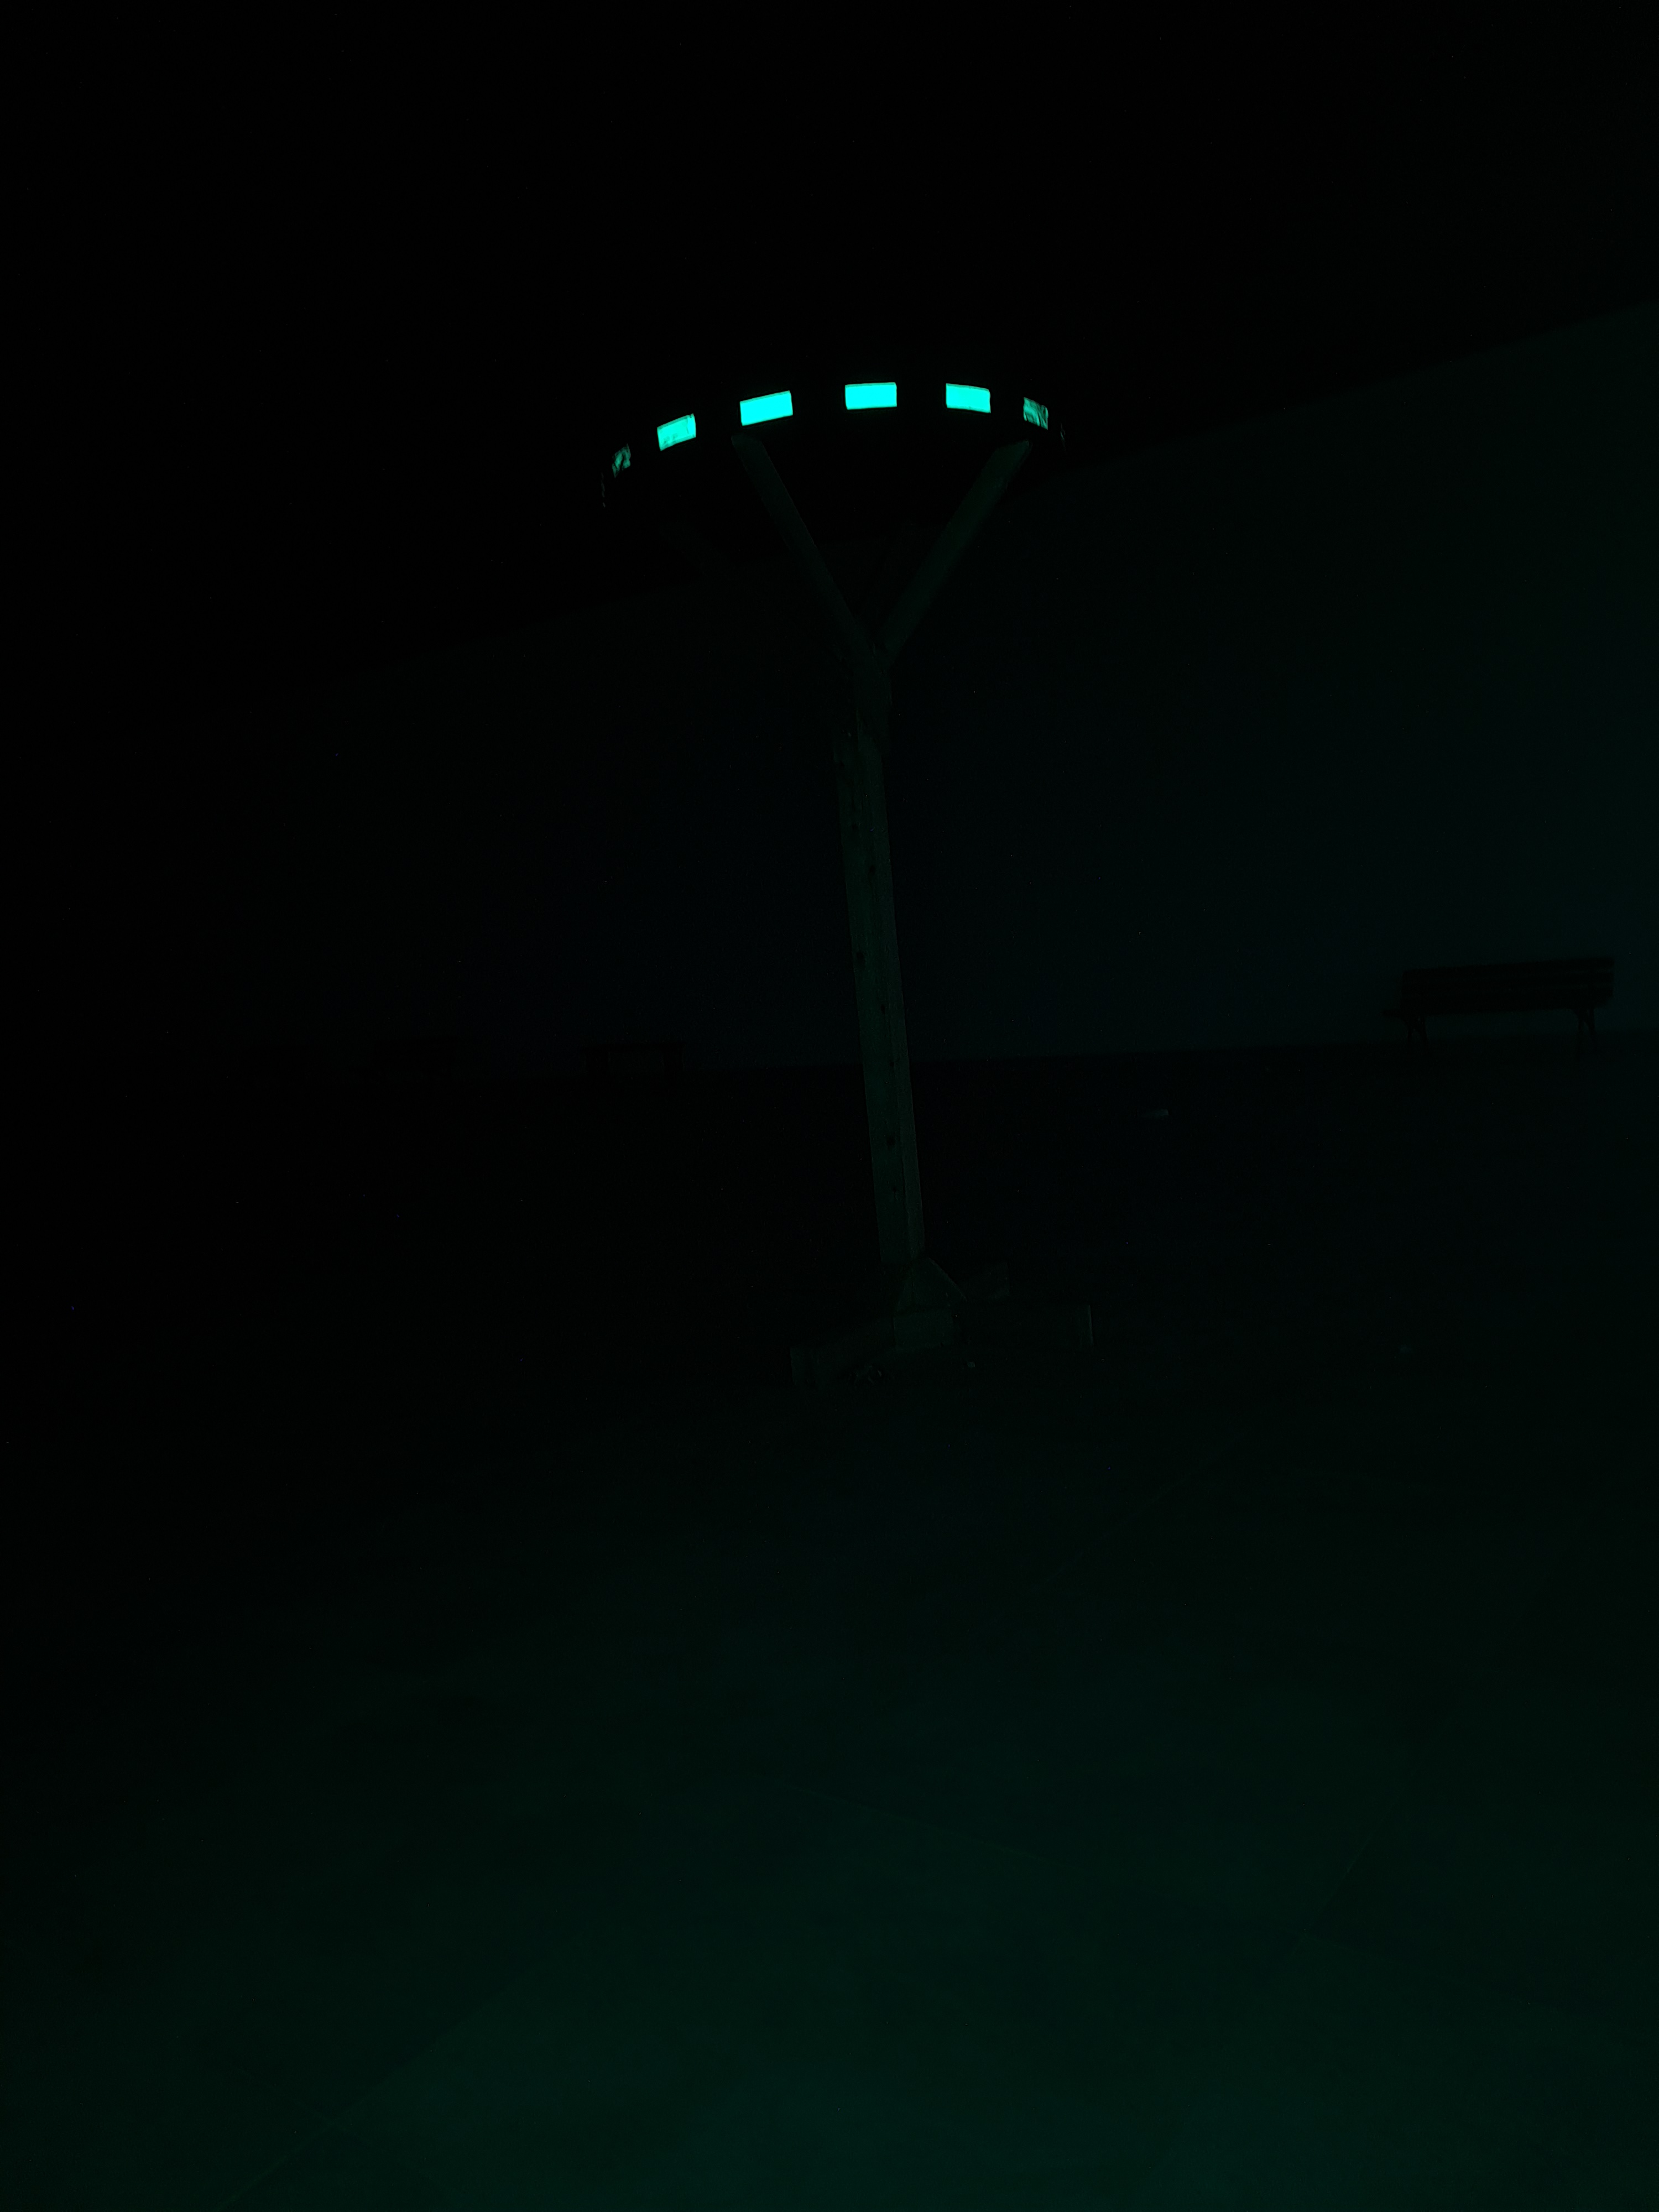hoop: (615, 381, 1056, 474)
